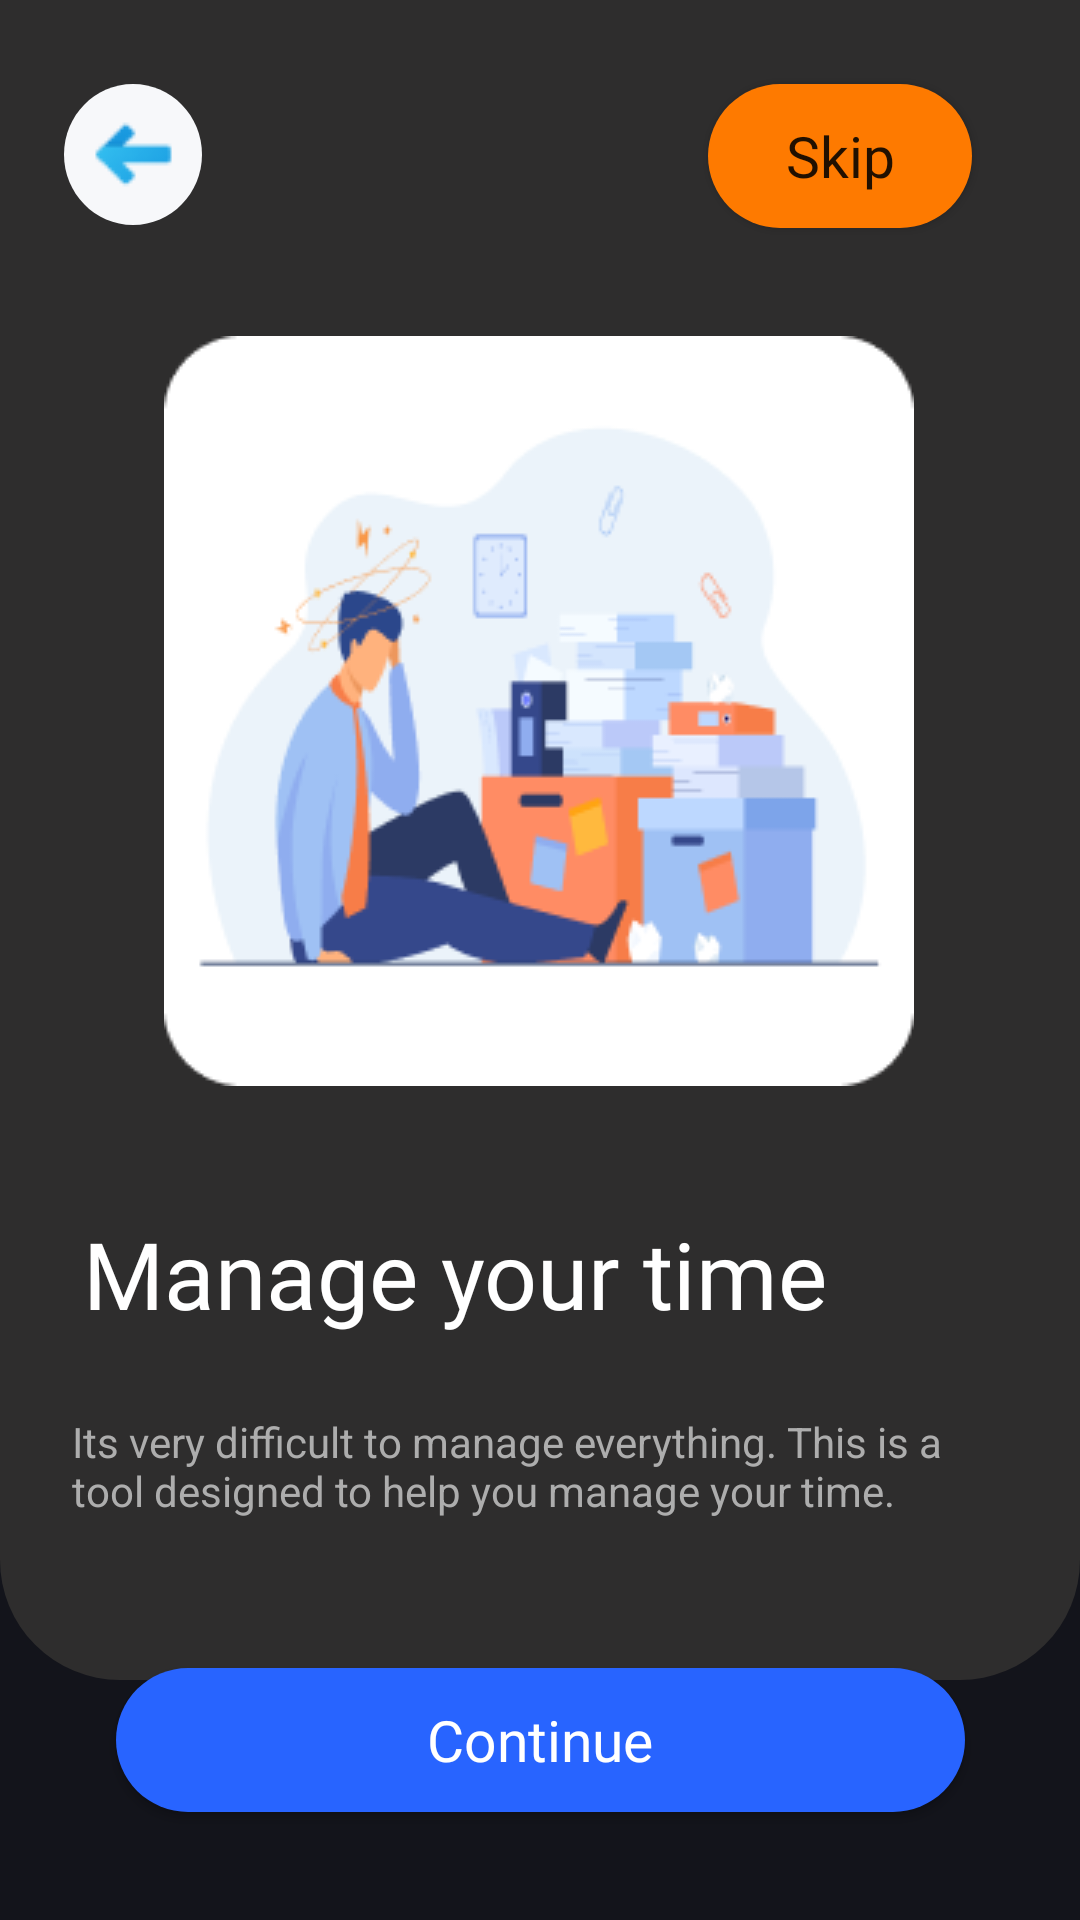

Icons on this 1080 x 1920 Android screen, each with the point to tap as (x,y):
back arrow: (133,154)
